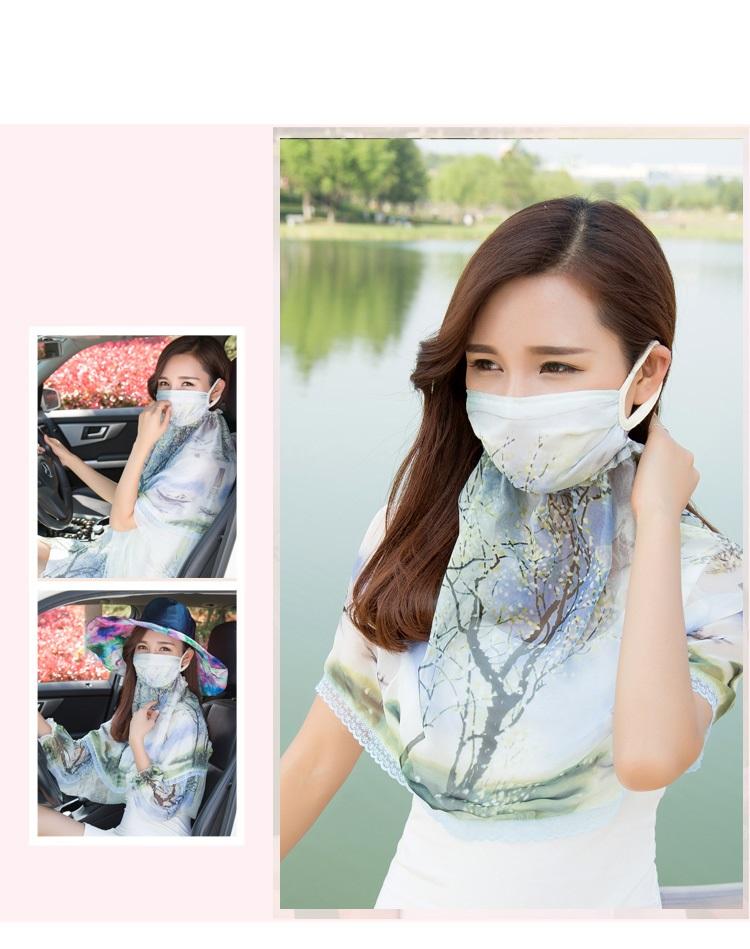face_mask: (465, 270, 625, 498), (155, 355, 209, 431), (135, 626, 181, 689)
